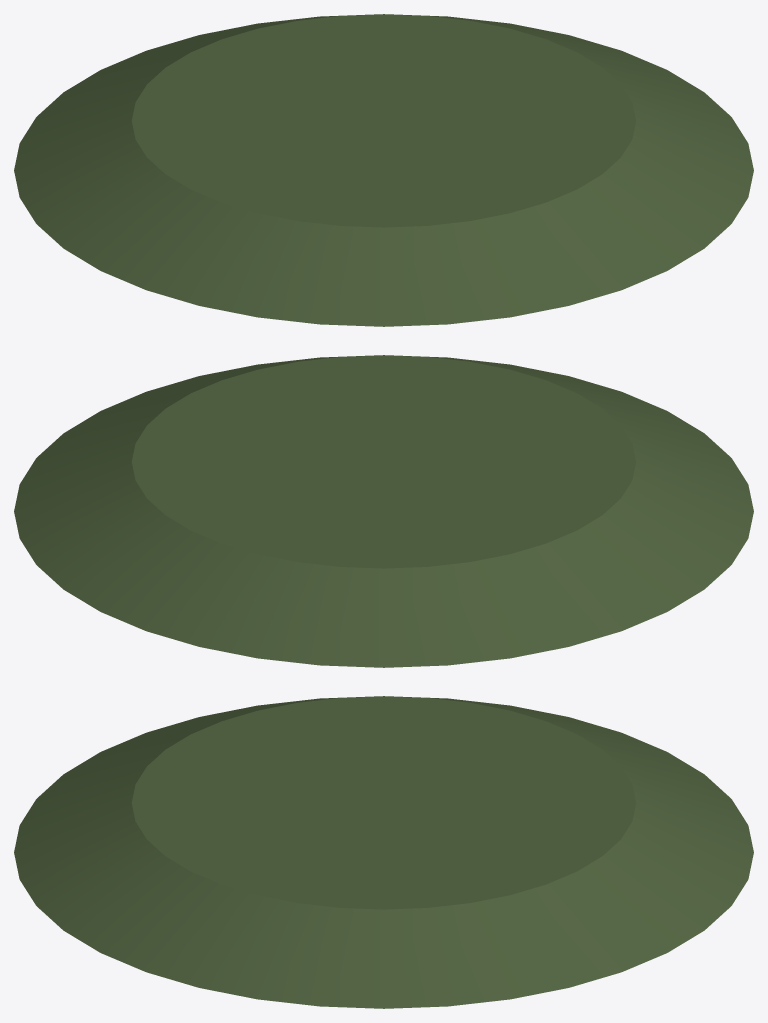
The model's file is root-mound.high.glb.
The picture shows the model from 3 angles, top to bottom: view 1: azimuth 30°, elevation 25°; view 2: azimuth 150°, elevation 25°; view 3: azimuth 270°, elevation 25°; orthographic projection.
Parts seen in each view (by area): view 1: Root Mound; view 2: Root Mound; view 3: Root Mound.
Part boxes in pixels (bbox=[...]): Root Mound: bbox=[14, 14, 753, 326]; Root Mound: bbox=[14, 355, 753, 667]; Root Mound: bbox=[14, 696, 753, 1008].
Bounding box in the file's own units: 176 × 13 × 176.
